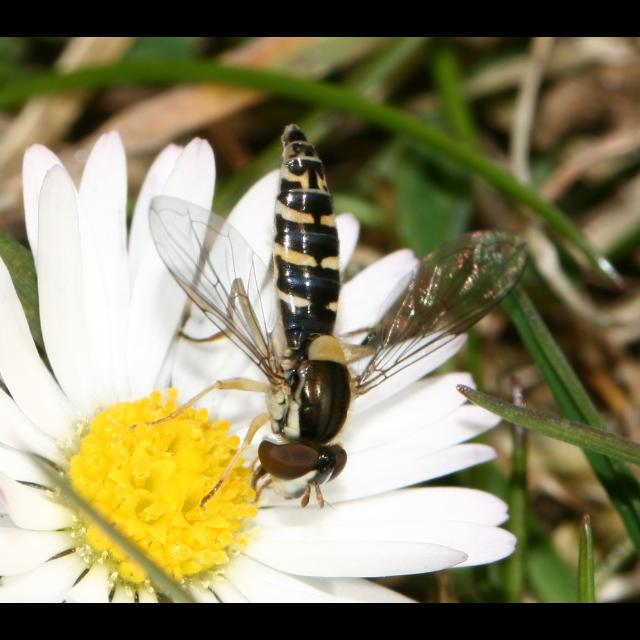Flower: (0, 126, 524, 604)
